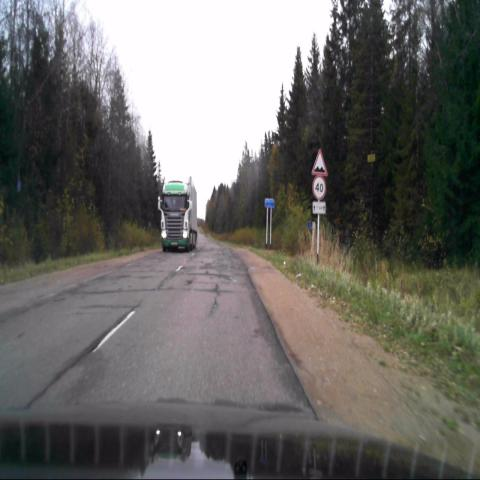1_16: (312, 149, 328, 176)
3_24: (312, 175, 326, 200)
8_2_1: (313, 202, 326, 214)
